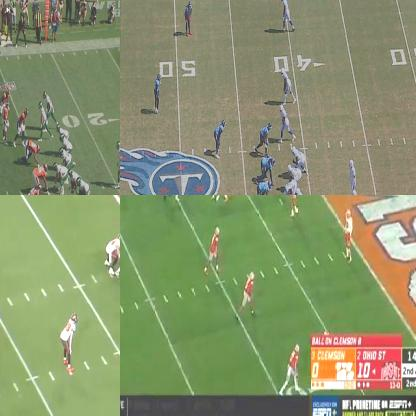CENTER: (53, 164, 66, 190), (281, 184, 293, 194)
DB: (344, 207, 355, 253), (186, 0, 194, 41), (289, 195, 301, 222), (156, 73, 163, 113), (0, 86, 11, 107)
LB: (215, 119, 224, 156), (2, 105, 9, 143), (261, 124, 271, 150), (30, 184, 42, 194)
QB: (349, 160, 356, 190), (116, 141, 119, 188)
SKILL: (60, 310, 76, 373), (284, 344, 301, 396), (236, 270, 252, 314), (207, 224, 219, 274), (102, 229, 119, 263), (282, 105, 294, 142), (38, 102, 48, 144), (282, 0, 294, 32), (283, 68, 294, 102), (42, 89, 52, 121), (56, 123, 72, 141)
